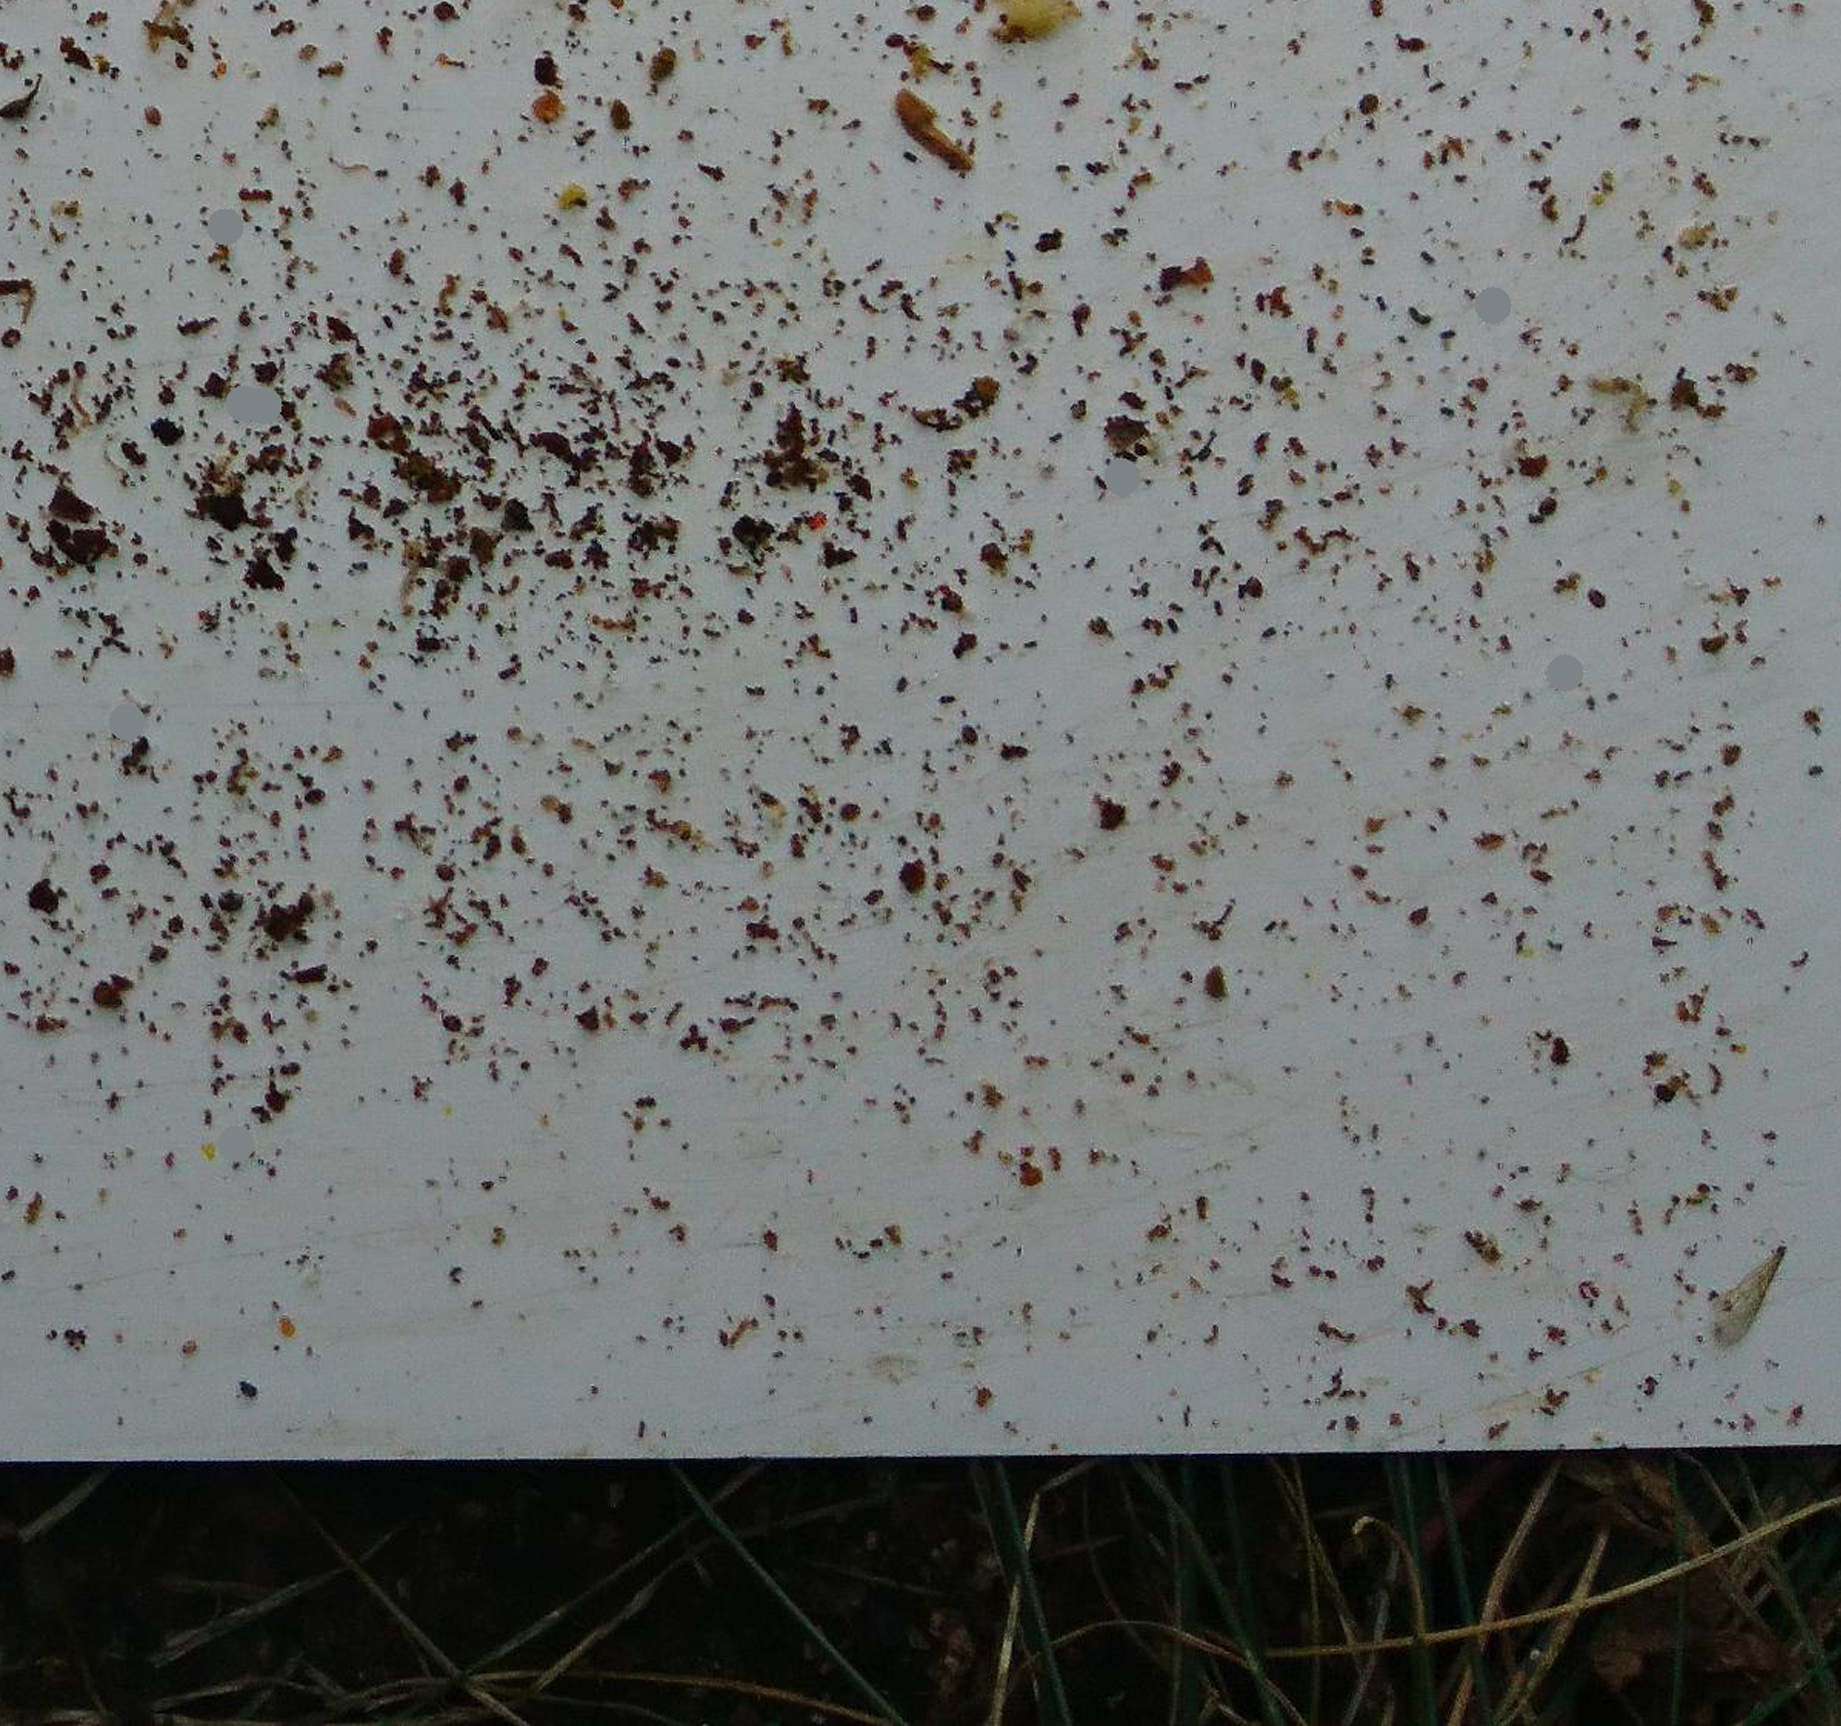Varroa: (1054, 282, 1100, 328), (76, 840, 122, 884), (707, 998, 753, 1041), (247, 1074, 292, 1118), (420, 839, 464, 882), (1356, 89, 1382, 117), (1578, 587, 1603, 615), (1533, 493, 1559, 517), (1242, 573, 1267, 599), (302, 782, 328, 806), (139, 105, 164, 131), (440, 1015, 464, 1041), (3, 324, 28, 349), (959, 723, 981, 749), (839, 800, 861, 822), (130, 550, 152, 573), (884, 32, 908, 54), (435, 6, 461, 26)
